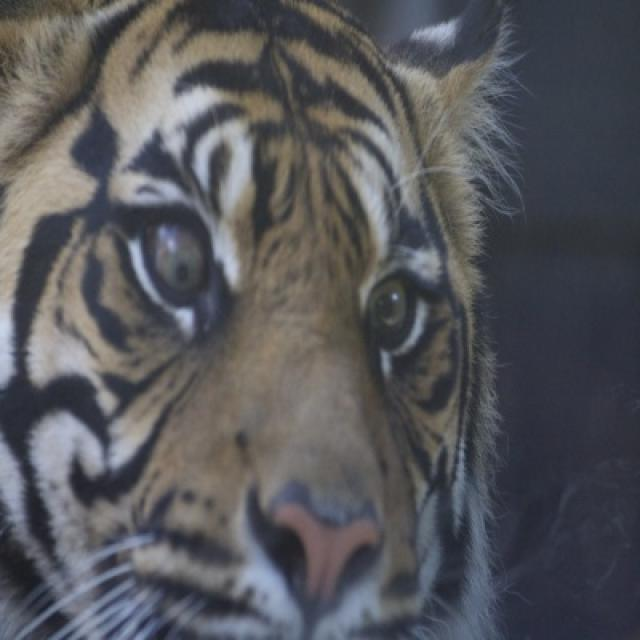Tiger: (0, 0, 515, 638)
